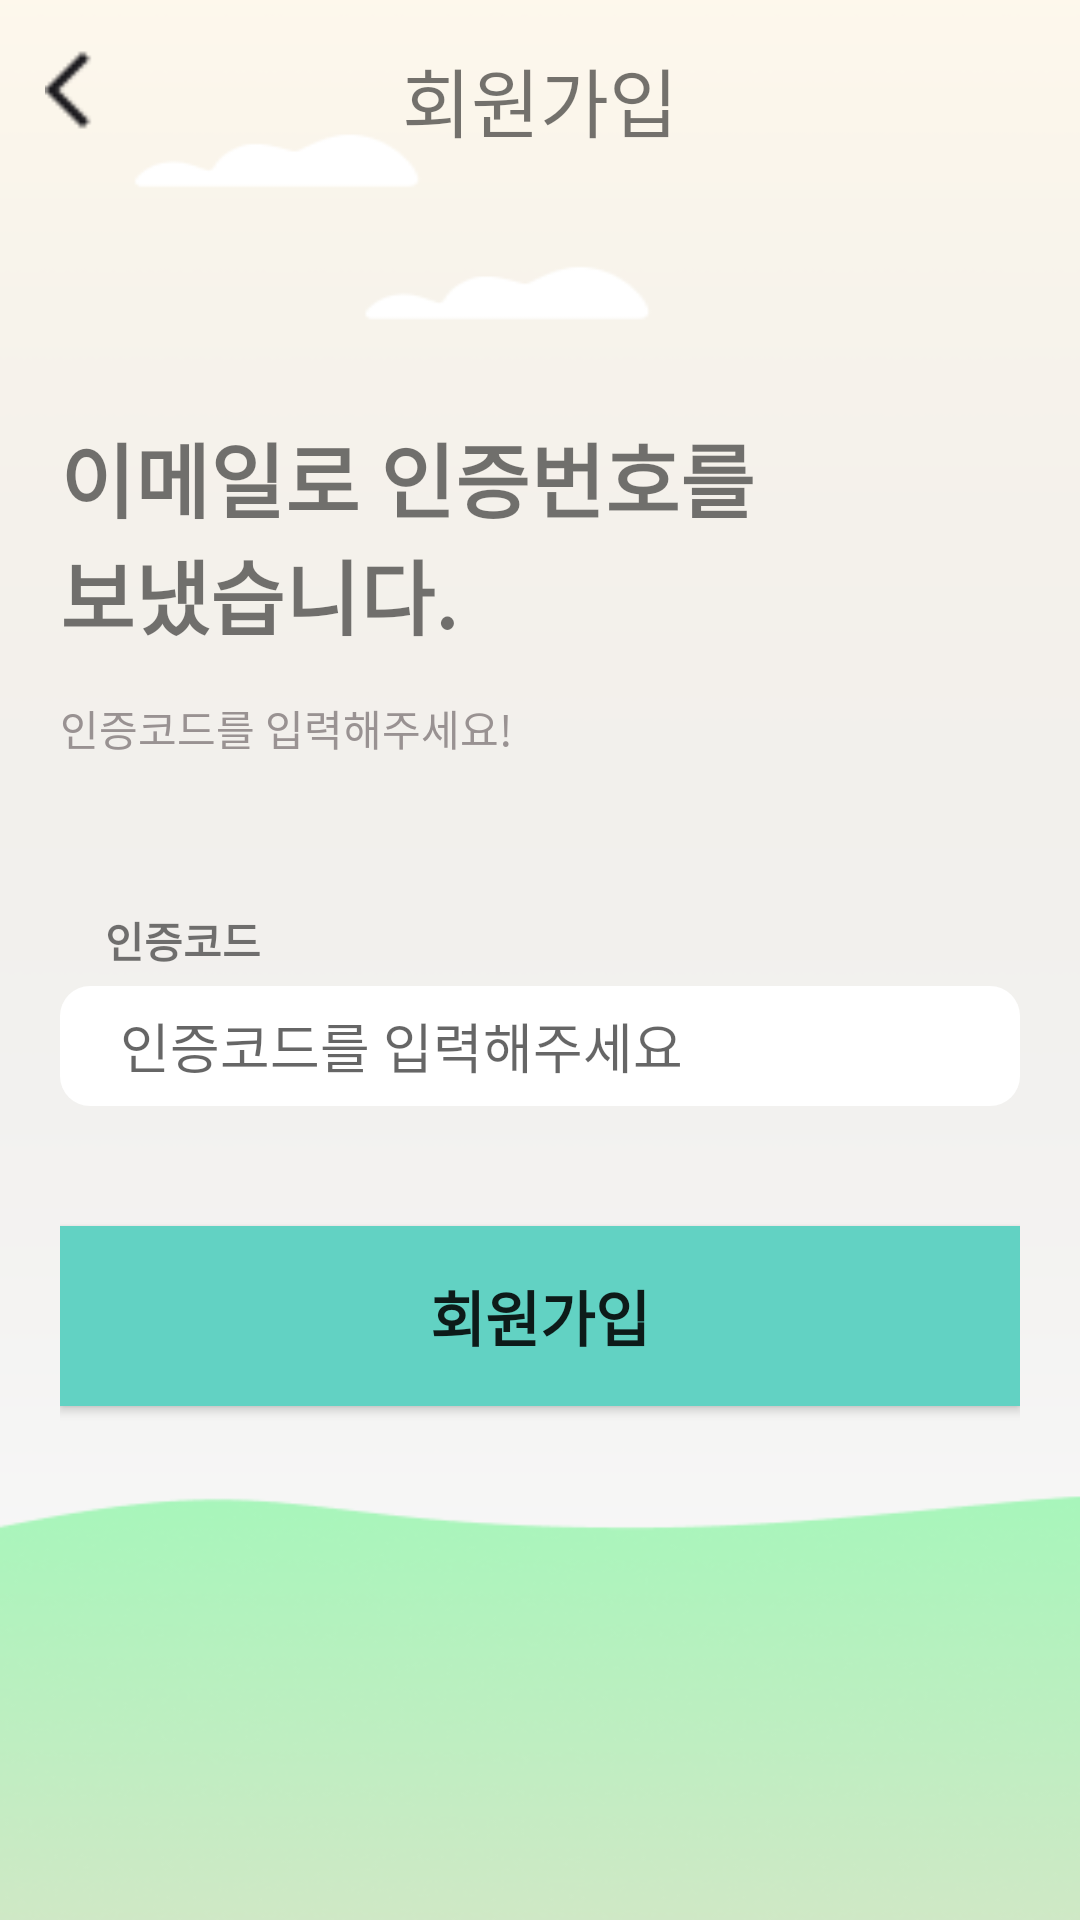

Screen size 1080 x 1920. Icon name, then its center in pixels as [x,y]:
arrow back: [68,90]
